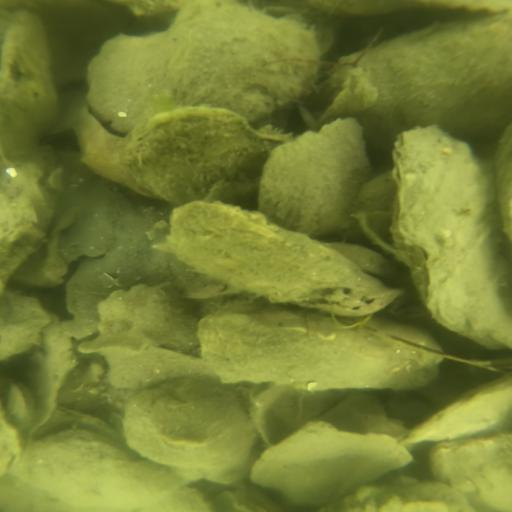Oyster-Closed: (85, 1, 323, 132), (388, 121, 512, 356), (166, 200, 404, 321), (328, 11, 512, 156), (197, 312, 449, 392), (6, 428, 219, 512), (116, 109, 299, 206), (244, 417, 415, 511), (78, 283, 220, 392), (122, 378, 256, 490), (255, 114, 372, 237), (1, 11, 64, 172), (401, 374, 512, 448), (1, 289, 56, 365)
Oyster-Open: (6, 379, 38, 434)
